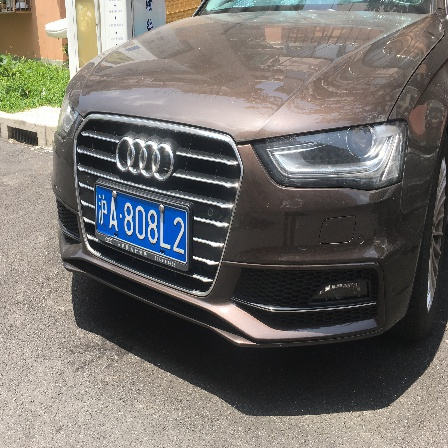plate: (92, 176, 198, 274)
